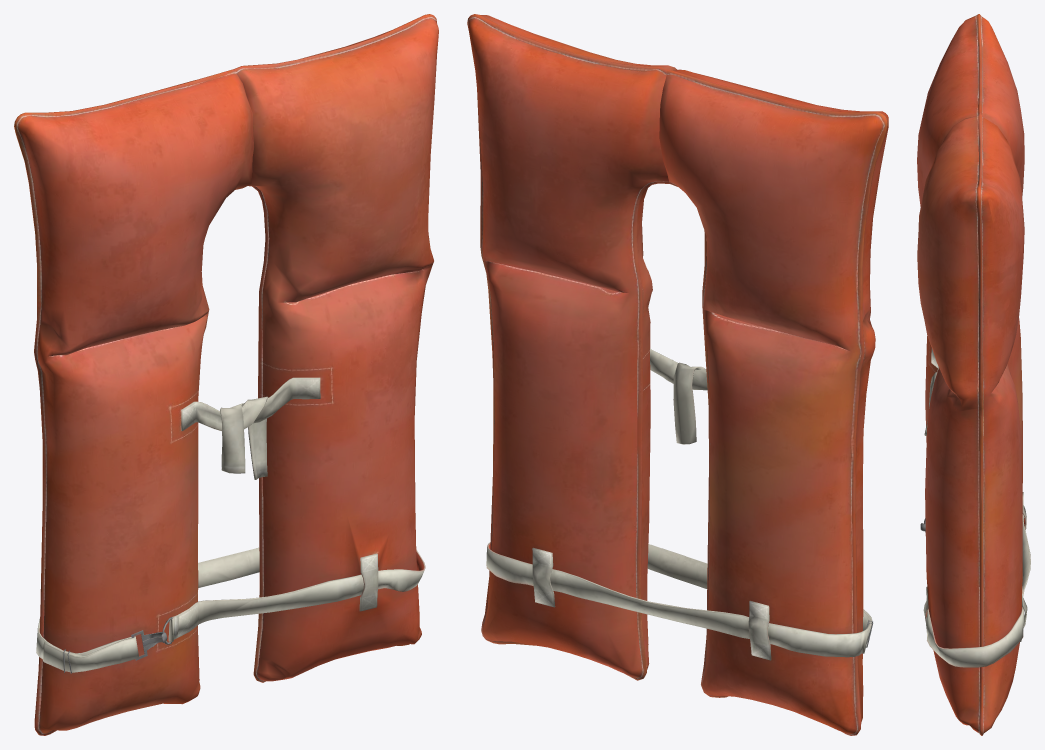
The model's file is life_jacket.glb.
3 renders of one model, left to right at view 1: azimuth 30°, elevation 25°; view 2: azimuth 150°, elevation 25°; view 3: azimuth 270°, elevation 25°, orthographic. The views are drawn at different scales.
Visible parts, largest first — view 1: life_jacket; view 2: life_jacket; view 3: life_jacket.
Part boxes in pixels (box(x1,y1,x2,y2)): life_jacket: box(14, 14, 438, 735); life_jacket: box(467, 14, 888, 735); life_jacket: box(917, 14, 1030, 735).
Size of the model in its own units: 0.6954 by 0.9923 by 0.1841.
1 material, 1 textured.
